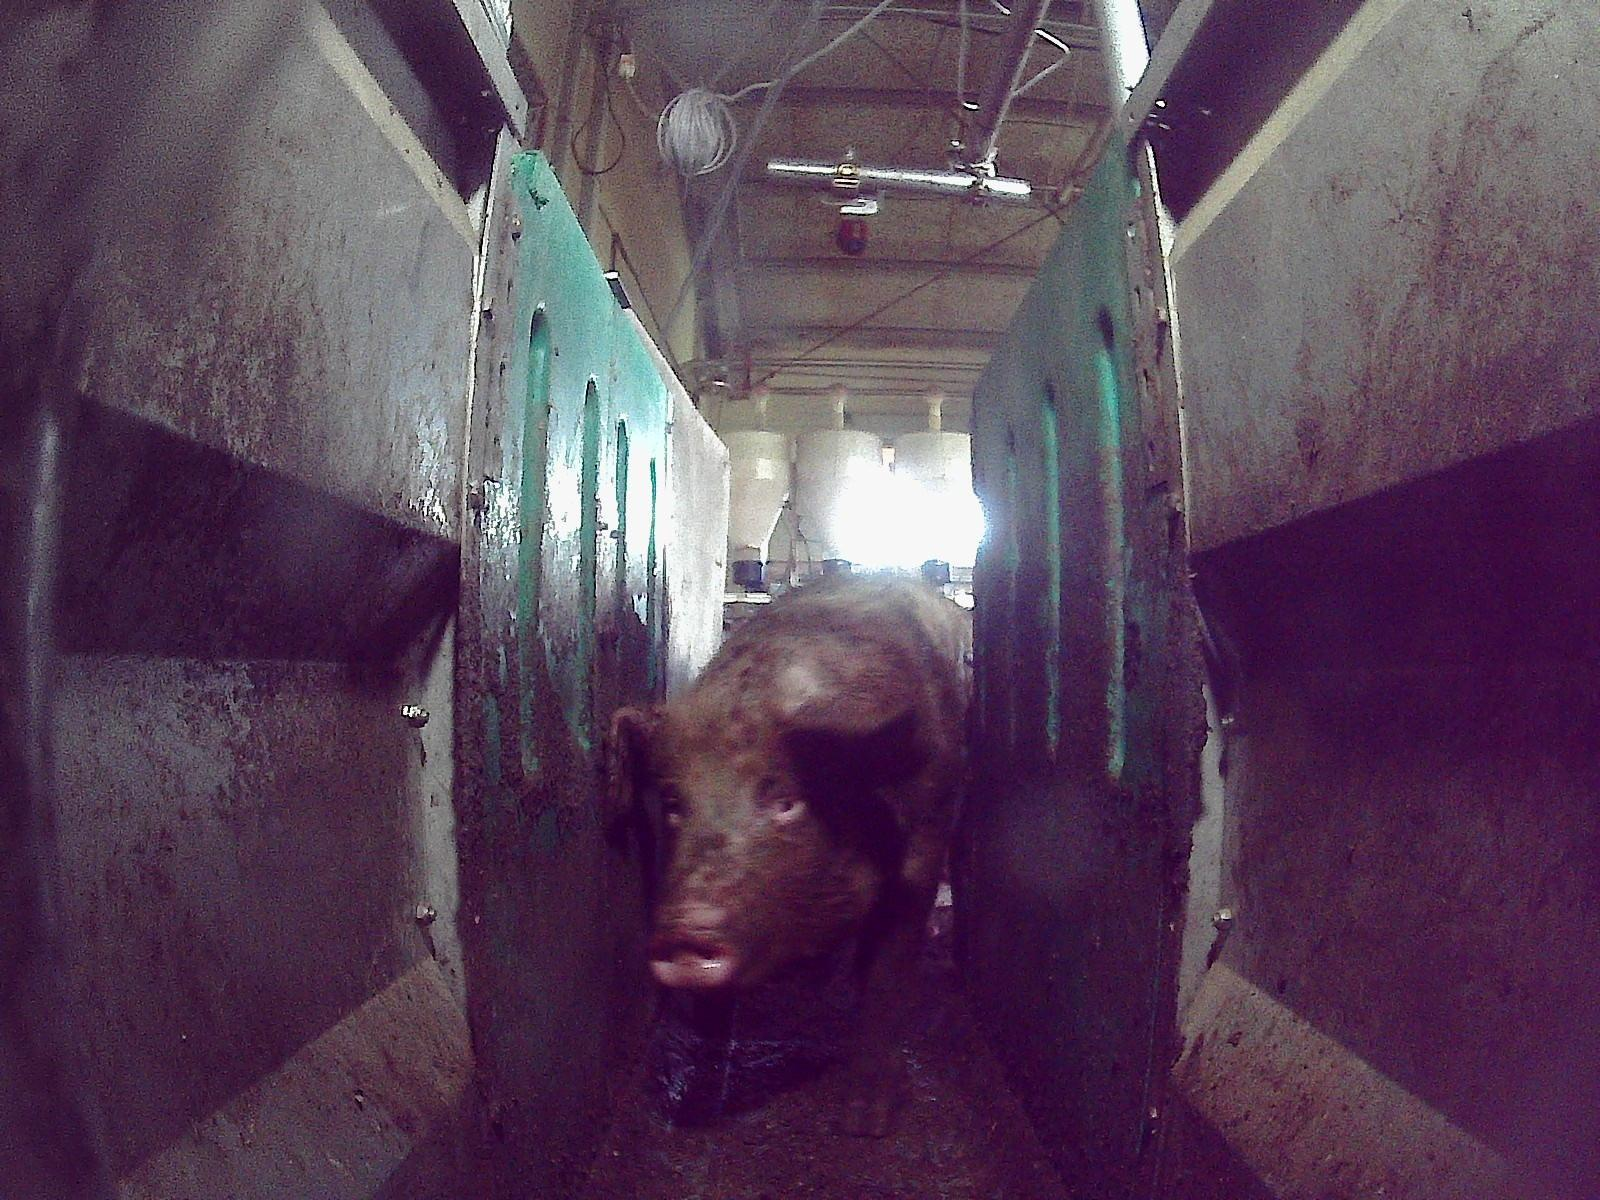Face: (638, 704, 841, 992)
